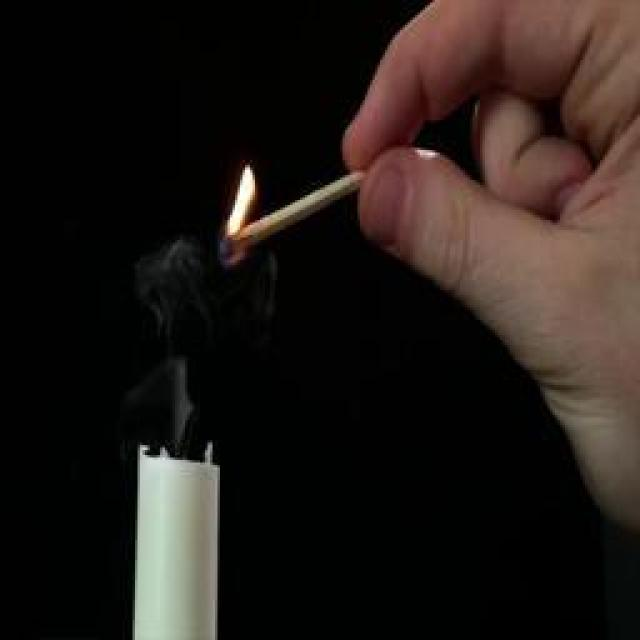Fire: (228, 164, 258, 234)
